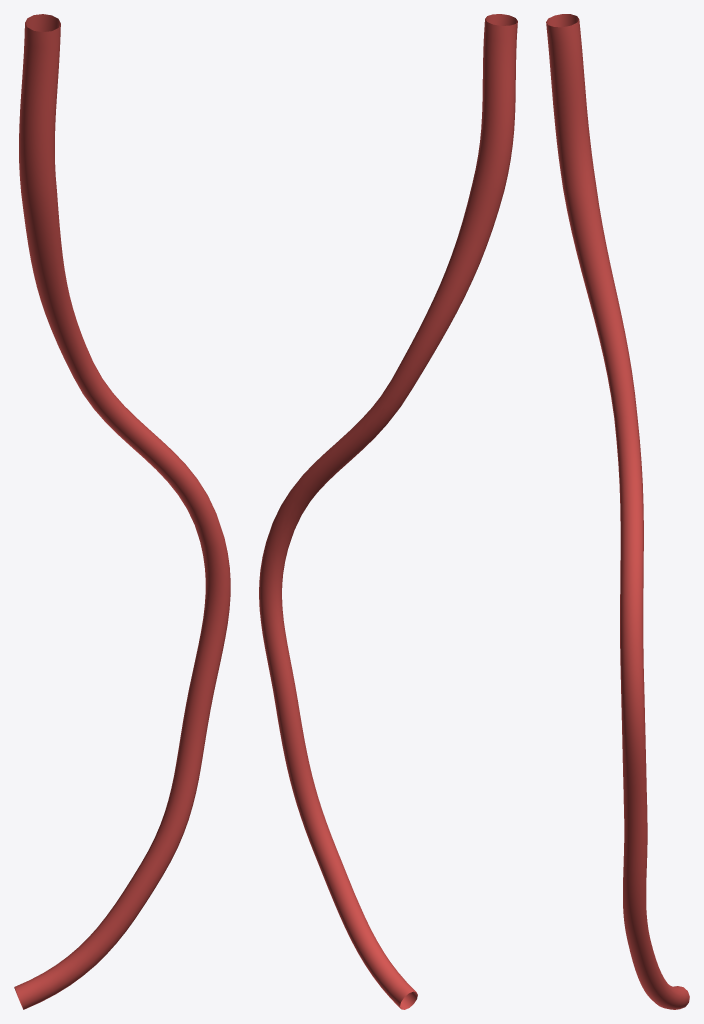
3 renders of one model, left to right at view 1: azimuth 30°, elevation 25°; view 2: azimuth 150°, elevation 25°; view 3: azimuth 270°, elevation 25°, orthographic. The views are drawn at different scales.
Visible parts, largest first — view 1: 左侧眼动脉; view 2: 左侧眼动脉; view 3: 左侧眼动脉.
Boxes of the visible parts, left/top/right/bottom form: 左侧眼动脉: left=14, top=14, right=230, bottom=1009; 左侧眼动脉: left=259, top=14, right=517, bottom=1009; 左侧眼动脉: left=546, top=14, right=689, bottom=1009.
Bounding box in the file's own units: 0.0114 × 0.0472 × 0.00634.
